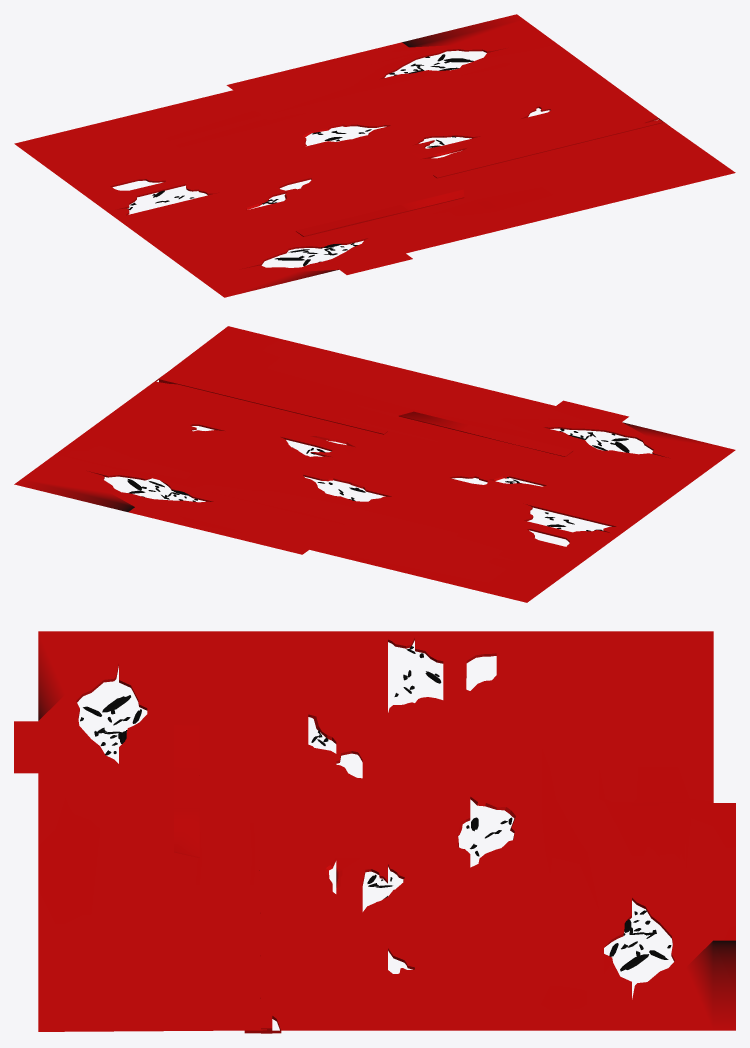
The model's file is SM_MI_OfficeFLoor_01.fbx.
The picture shows the model from 3 angles, top to bottom: view 1: azimuth 30°, elevation 25°; view 2: azimuth 150°, elevation 25°; view 3: azimuth 270°, elevation 25°; orthographic projection. The views are drawn at different scales.
Visible parts, largest first — view 1: SM_ST_Office01.mo; view 2: SM_ST_Office01.mo; view 3: SM_ST_Office01.mo.
Part boxes in pixels (x1,y1,x2,y2): SM_ST_Office01.mo: (14,14,735,297); SM_ST_Office01.mo: (14,326,735,602); SM_ST_Office01.mo: (14,631,735,1033).
Bounding box in the file's own units: 1154 × 879 × 8.17.
